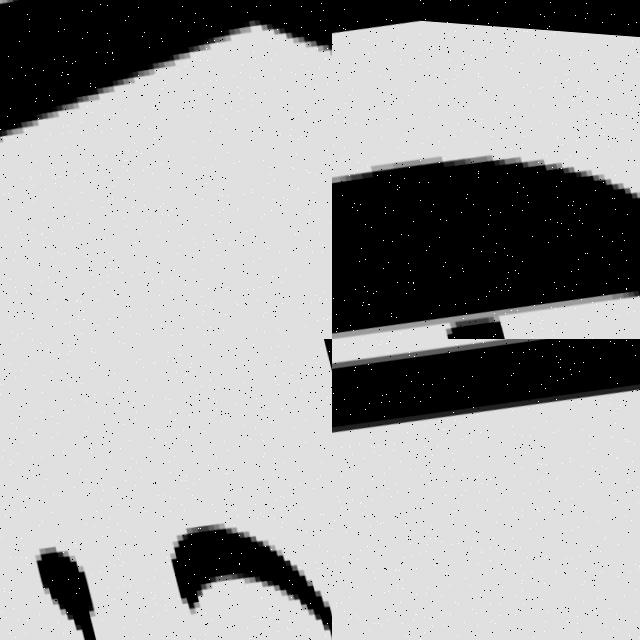1: (332, 339, 640, 583)
3: (0, 339, 332, 640)
G: (332, 67, 640, 339)
K: (0, 0, 332, 240)
